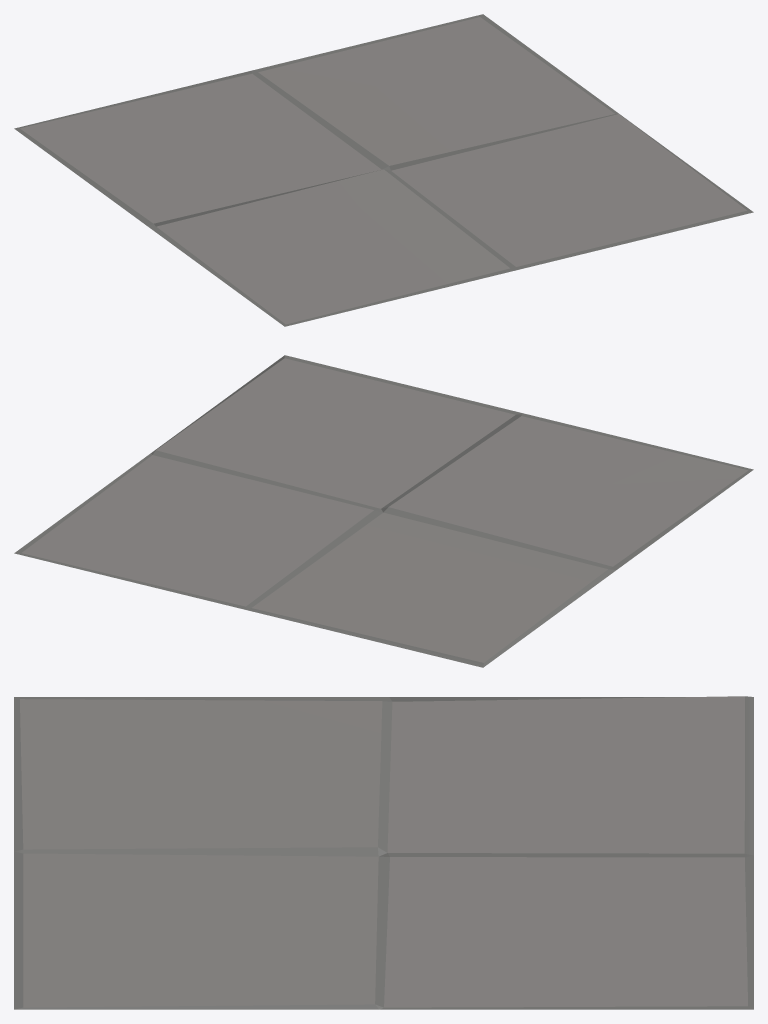
Rendered from SM_Env_Sidewalk_01.glb.
3 renders of one model, top to bottom at view 1: azimuth 30°, elevation 25°; view 2: azimuth 150°, elevation 25°; view 3: azimuth 270°, elevation 25°, orthographic. The views are drawn at different scales.
Parts seen in each view (by area): view 1: SM_Env_Sidewalk_01; view 2: SM_Env_Sidewalk_01; view 3: SM_Env_Sidewalk_01.
Part boxes in pixels (x1,y1,x2,y2): SM_Env_Sidewalk_01: (14, 14, 753, 326); SM_Env_Sidewalk_01: (14, 355, 753, 667); SM_Env_Sidewalk_01: (14, 696, 753, 1009).
Size of the model in its own units: 0.05 by 0.000342 by 0.05.
1 material, 1 textured.
